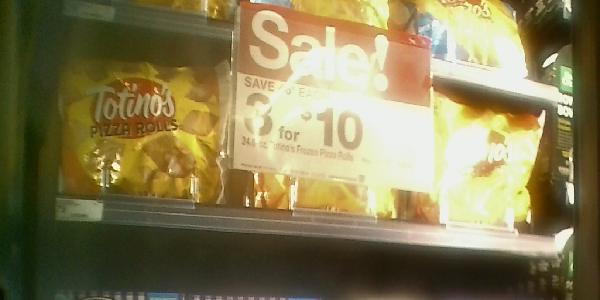icecream: (232, 38, 402, 218), (46, 48, 225, 205), (399, 77, 542, 236)
